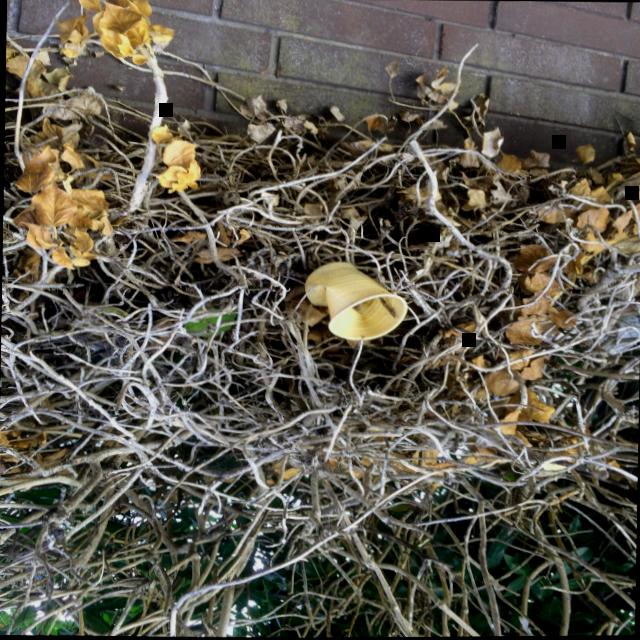Disposable plastic cup: (303, 261, 406, 340)
